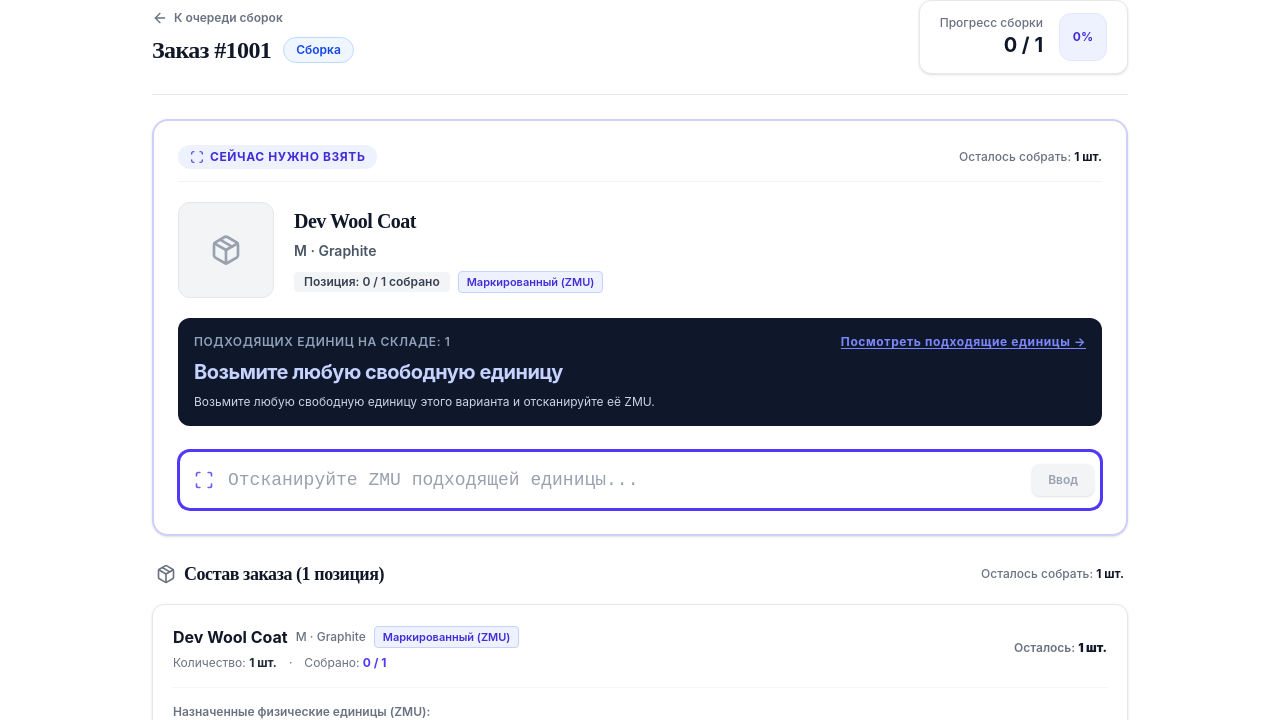
it: Admin Guided Picking Foundation (M6.1) › wrong scan stays on current task and displays mapped human error message
The width and height of the screenshot is (1280, 720).
Expected: the text "Возьмите любую свободную единицу" is shown, [194,360,563,384]
Step 1. Type "ZMU-WRONG-999" into the field with placeholder "Отсканируйте ZMU подходящей единицы..." → (640, 480), box [178,450,1102,510]
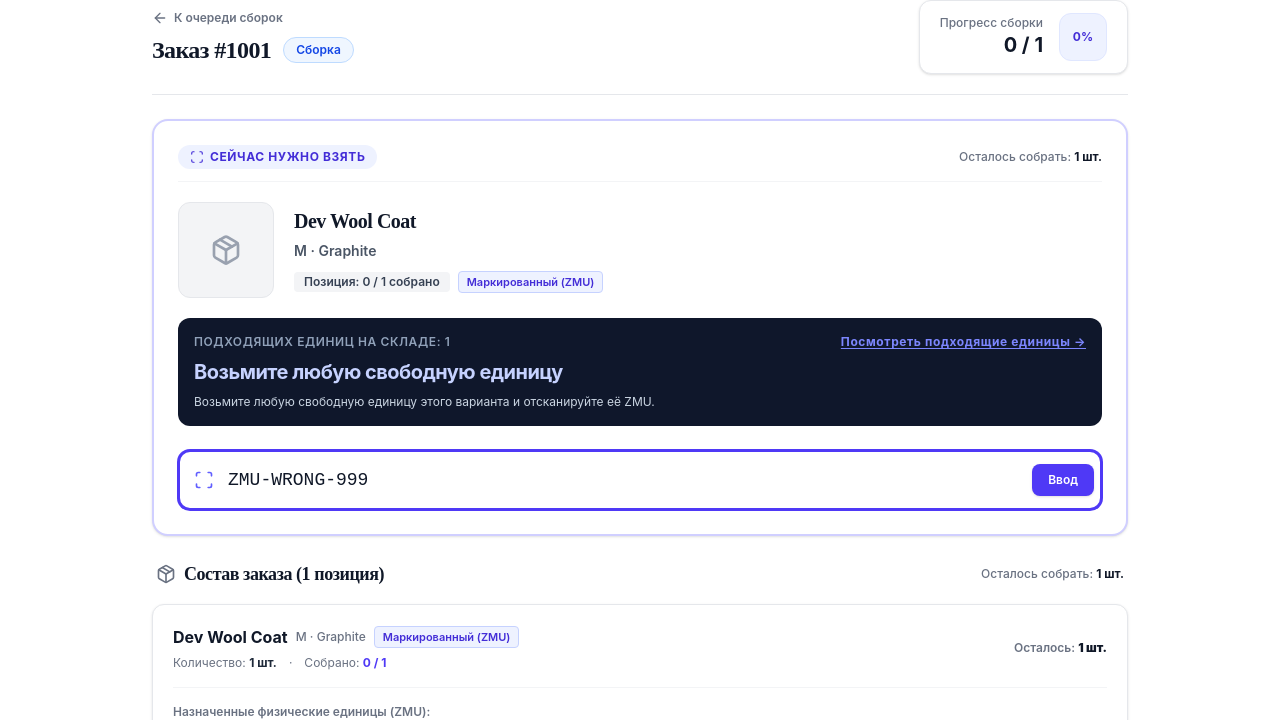
Step 2. Submit the form with placeholder "Отсканируйте ZMU подходящей единицы", box [178,446,1102,510]
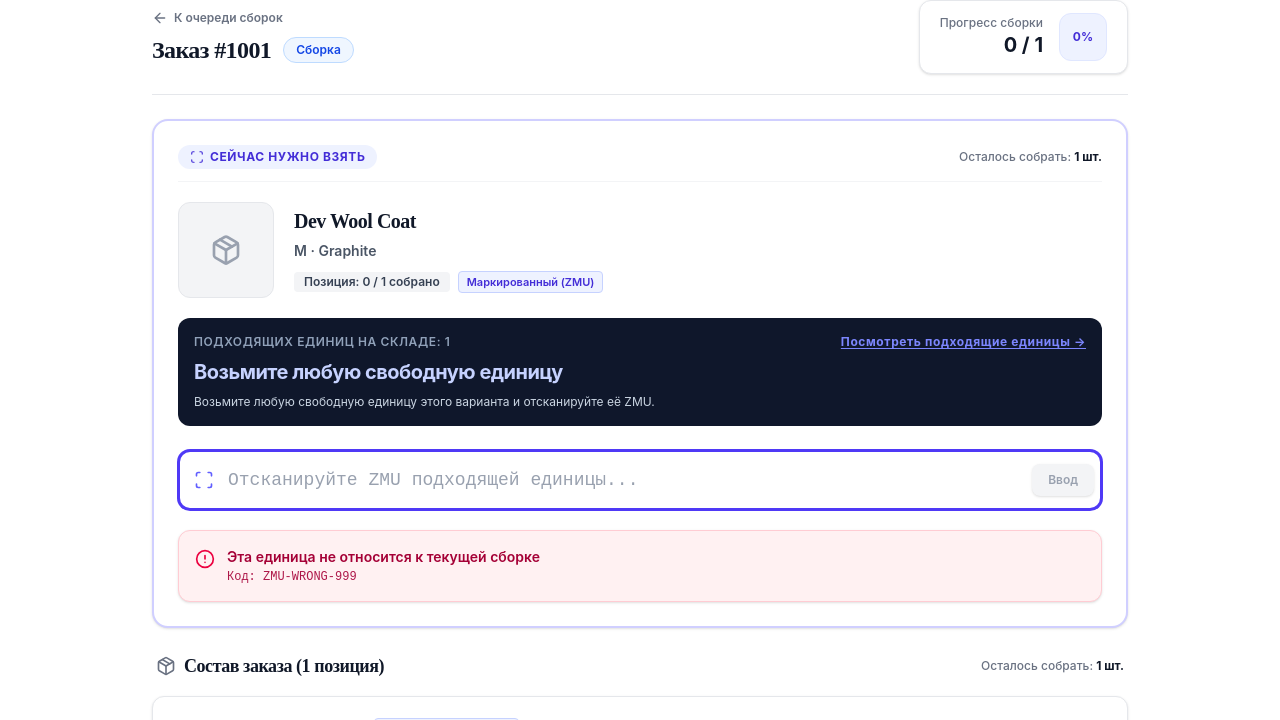
Expected: the text "Возьмите любую свободную единицу" is shown, [194,360,563,384]
Result: the element with test id "scan-feedback-banner" is shown at [178,530,1102,602]
Result: the text "Эта единица не относится к текущей сборке" is shown at [227,547,540,567]
